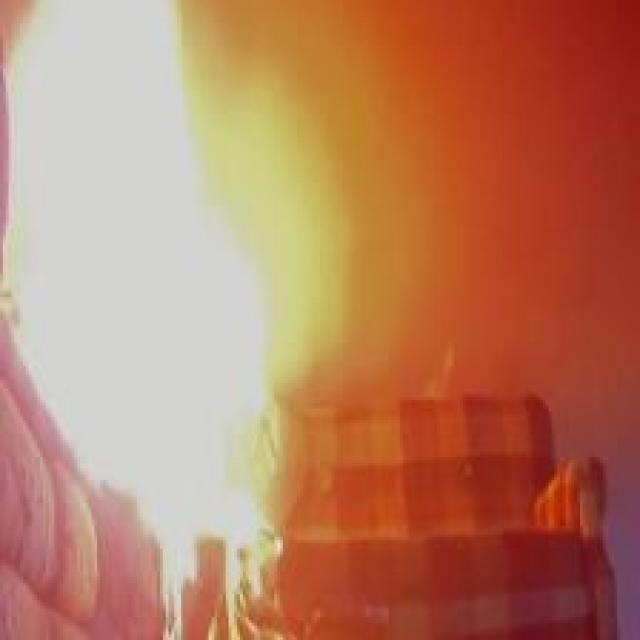Fire: (7, 0, 299, 640)
